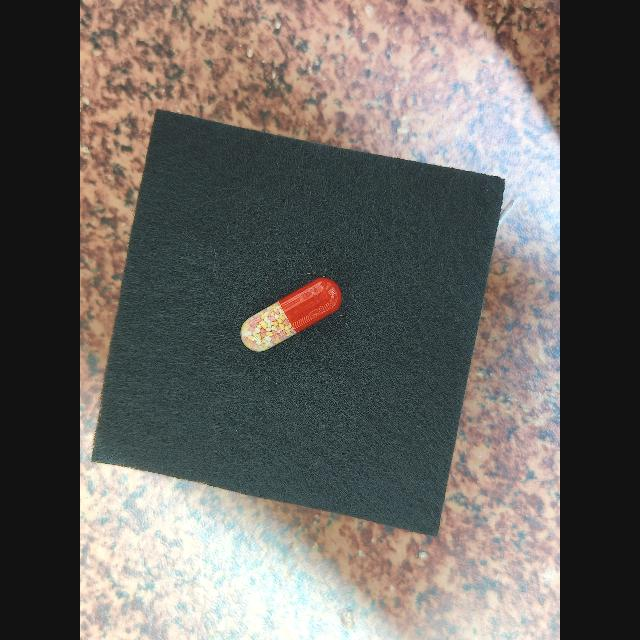Intact Capsule: (240, 278, 342, 352)
